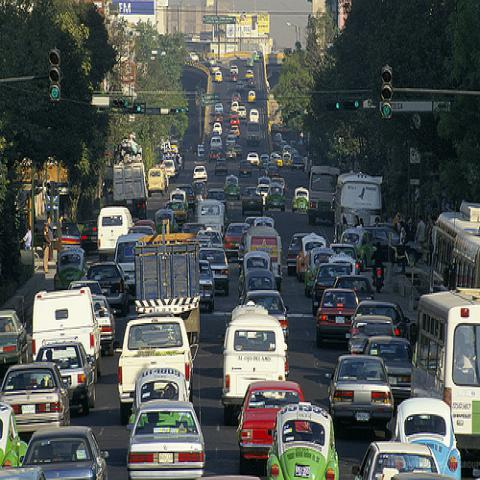bus: (410, 286, 479, 456), (430, 200, 480, 293), (309, 164, 338, 229)
car: (1, 40, 479, 466), (222, 313, 286, 428), (126, 399, 207, 479), (237, 379, 305, 470), (387, 395, 460, 474), (267, 401, 339, 480), (326, 357, 394, 433), (35, 339, 97, 419), (22, 426, 109, 480), (362, 335, 413, 398), (349, 441, 440, 475), (316, 286, 359, 347), (291, 188, 310, 214)
motorcycle: (374, 268, 382, 289)
truck: (117, 317, 196, 424), (132, 220, 200, 343), (32, 286, 102, 373), (331, 170, 382, 242), (113, 164, 149, 218)
